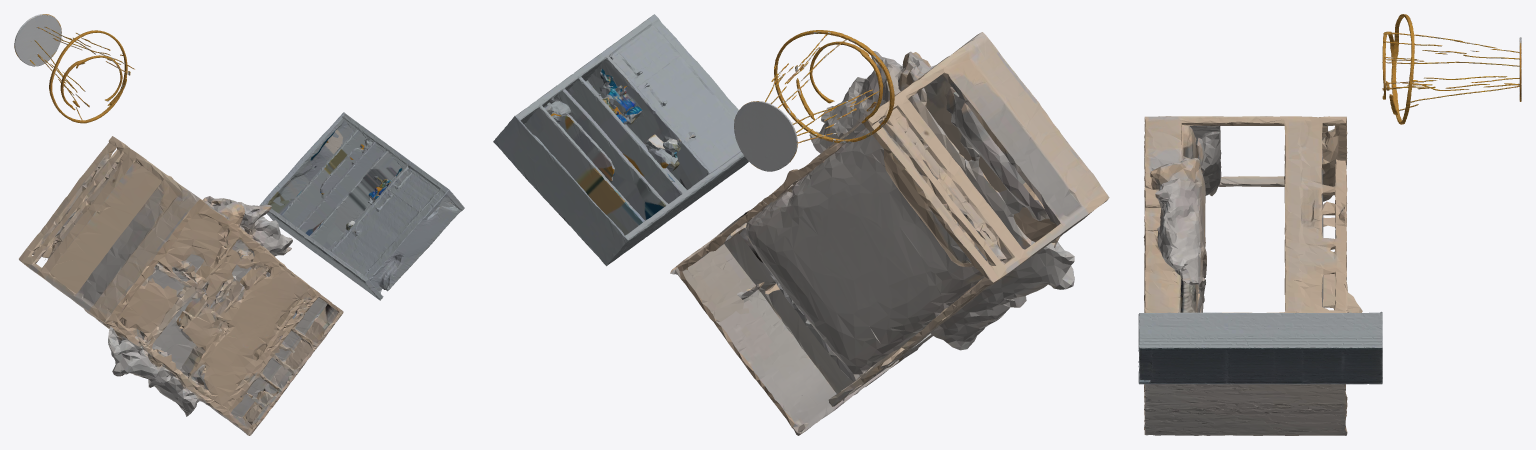
The picture shows the model from 3 angles, left to right: view 1: azimuth 30°, elevation 25°; view 2: azimuth 150°, elevation 25°; view 3: azimuth 270°, elevation 25°; orthographic projection. The views are drawn at different scales.
Visible parts, largest first — view 1: scene_0000033_object_2_textured_scene_0000033_object_2_textu, scene_0000033_object_1_textured_scene_0000033_object_1_textu, scene_0000033_object_0_textured_scene_0000033_object_0_textu; view 2: scene_0000033_object_2_textured_scene_0000033_object_2_textu, scene_0000033_object_1_textured_scene_0000033_object_1_textu, scene_0000033_object_0_textured_scene_0000033_object_0_textu; view 3: scene_0000033_object_2_textured_scene_0000033_object_2_textu, scene_0000033_object_1_textured_scene_0000033_object_1_textu, scene_0000033_object_0_textured_scene_0000033_object_0_textu.
Boxes of the visible parts, x1,y1,x2,y2 form: scene_0000033_object_2_textured_scene_0000033_object_2_textu: (19,136,343,435); scene_0000033_object_1_textured_scene_0000033_object_1_textu: (260,112,464,300); scene_0000033_object_0_textured_scene_0000033_object_0_textu: (14,14,134,123); scene_0000033_object_2_textured_scene_0000033_object_2_textu: (670,32,1109,435); scene_0000033_object_1_textured_scene_0000033_object_1_textu: (493,14,748,266); scene_0000033_object_0_textured_scene_0000033_object_0_textu: (734,30,894,171); scene_0000033_object_2_textured_scene_0000033_object_2_textu: (1143,116,1362,435); scene_0000033_object_1_textured_scene_0000033_object_1_textu: (1138,311,1382,384); scene_0000033_object_0_textured_scene_0000033_object_0_textu: (1382,14,1521,124).
Size of the model in its own units: 4.03 by 3.59 by 3.21.
3 materials, 3 textured.
